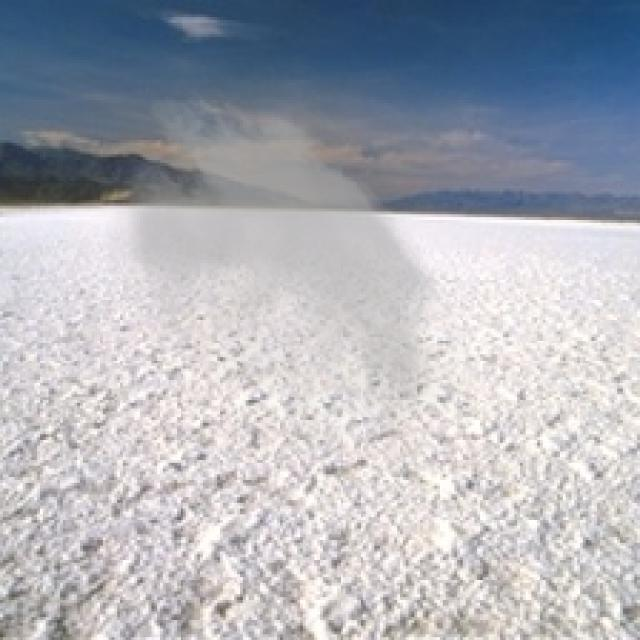smoke: (86, 83, 486, 500)
